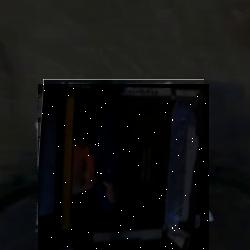restaffald: (38, 84, 209, 250)
